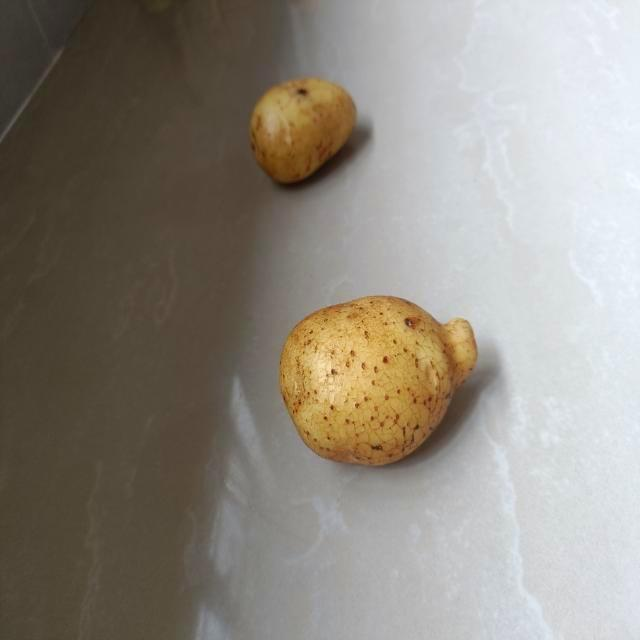potato: (275, 291, 482, 473), (248, 79, 364, 191)
